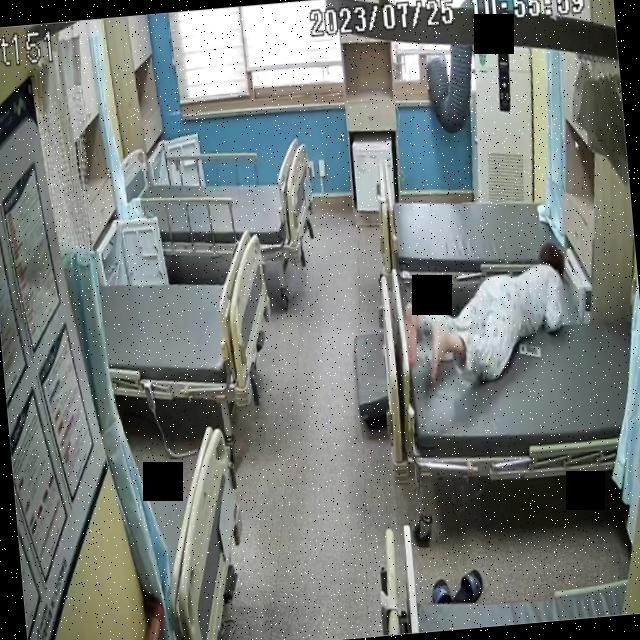bed: (397, 299, 640, 493), (95, 227, 282, 418), (120, 134, 315, 271), (377, 162, 568, 298)
danger: (398, 238, 576, 394)
patient: (398, 239, 576, 394)
